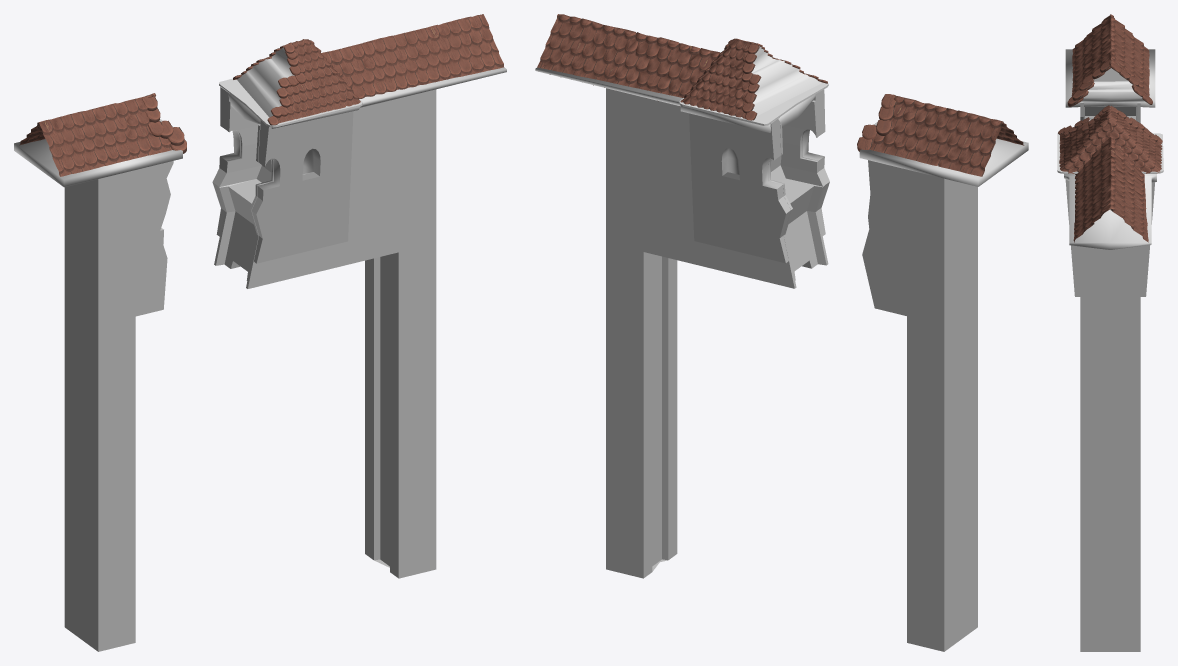
File: bricks_bridge_lod1.fbx
3 renders of one model, left to right at view 1: azimuth 30°, elevation 25°; view 2: azimuth 150°, elevation 25°; view 3: azimuth 270°, elevation 25°, orthographic. The views are drawn at different scales.
Visible parts, largest first — view 1: Lod1_middle_bricks_bridge; view 2: Lod1_middle_bricks_bridge; view 3: Lod1_middle_bricks_bridge, Plane.130.
Part boxes in pixels (x1=…): Lod1_middle_bricks_bridge: x1=14, y1=14, x2=506, y2=651; Lod1_middle_bricks_bridge: x1=535, y1=14, x2=1028, y2=651; Lod1_middle_bricks_bridge: x1=1057, y1=14, x2=1163, y2=651; Plane.130: x1=1081, y1=68, x2=1145, y2=102.
Bounding box in the file's own units: 1143 × 1340 × 265.
